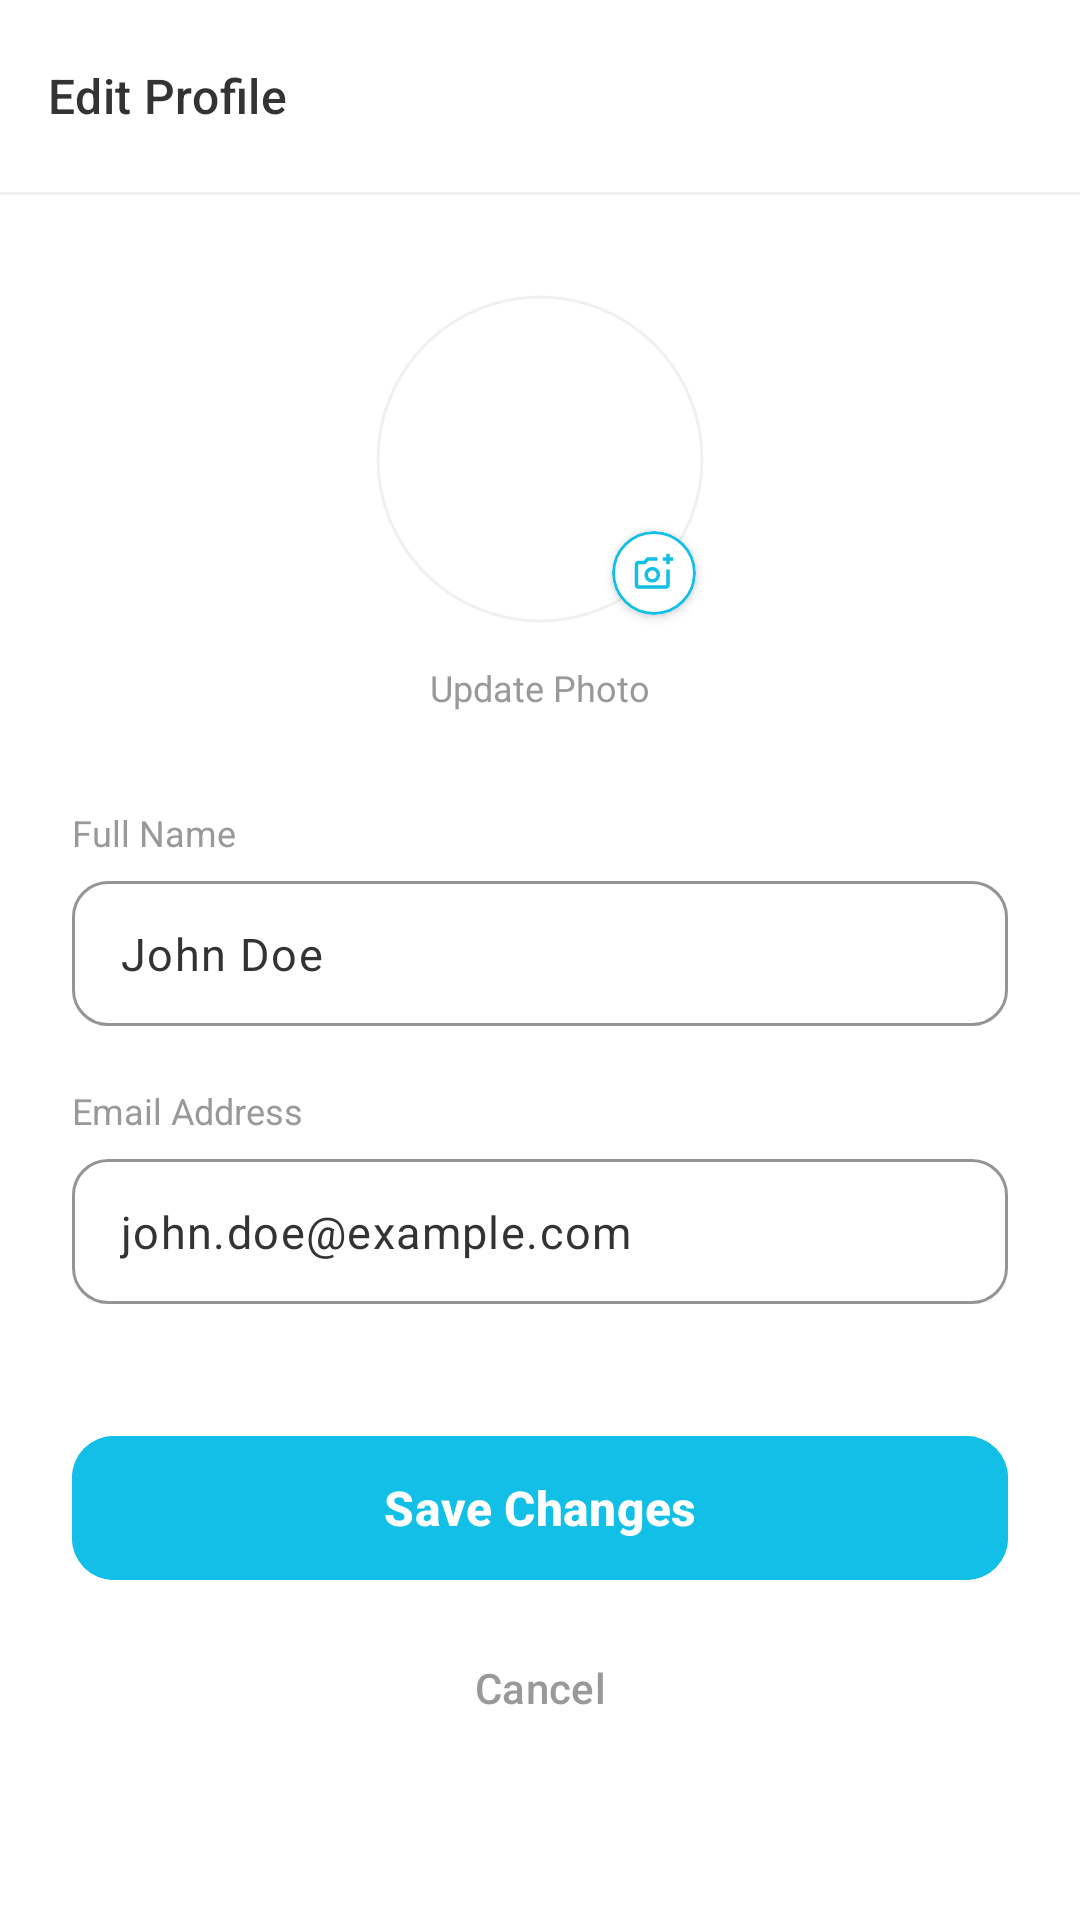

Named icons in this screenshot (1080 x 1920) and their centers, (x=x, y=y):
Change photo: (x=654, y=571)
